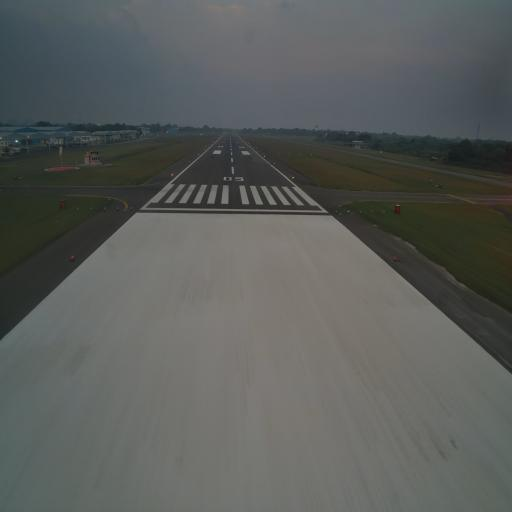on: (392, 254, 398, 262), (70, 255, 75, 262)
